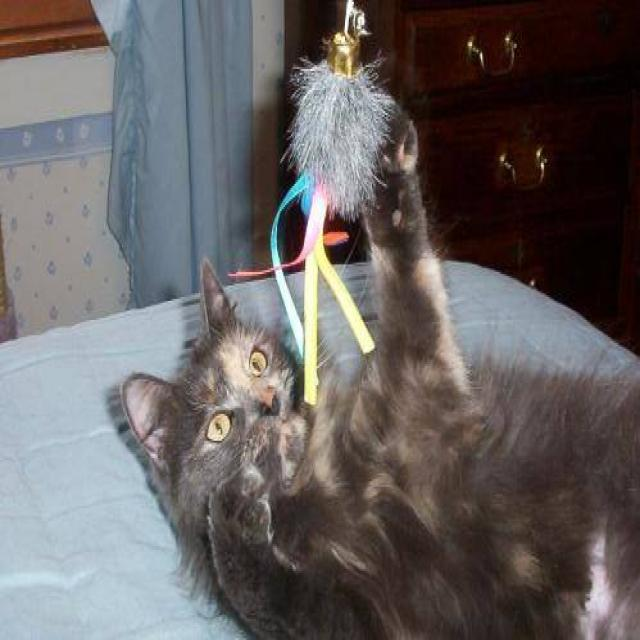cat: (92, 46, 640, 640)
